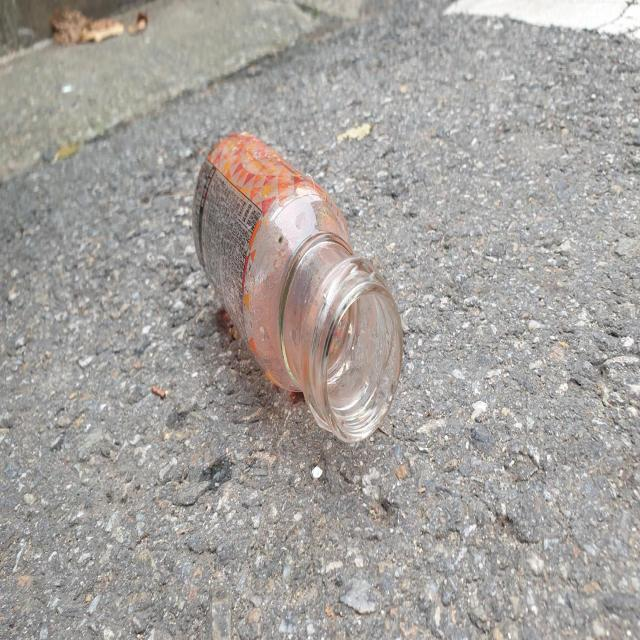glass: (192, 132, 402, 442)
